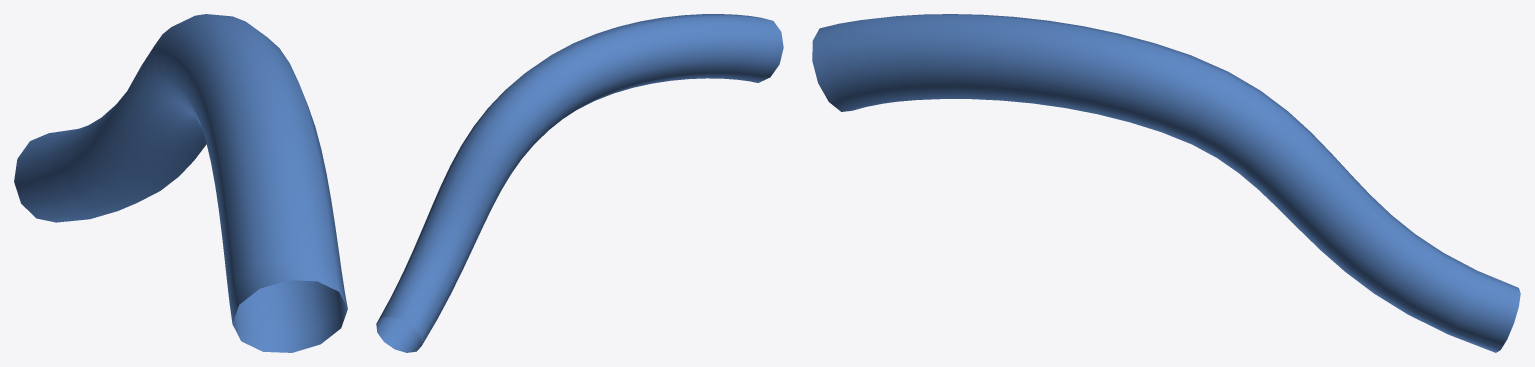
The picture shows the model from 3 angles, left to right: view 1: azimuth 30°, elevation 25°; view 2: azimuth 150°, elevation 25°; view 3: azimuth 270°, elevation 25°; orthographic projection. The views are drawn at different scales.
Parts seen in each view (by area): view 1: 左侧髂外静脉; view 2: 左侧髂外静脉; view 3: 左侧髂外静脉.
Part boxes in pixels (x1,y1,x2,y2): 左侧髂外静脉: (14, 14, 347, 352); 左侧髂外静脉: (376, 14, 783, 352); 左侧髂外静脉: (812, 14, 1520, 352).
Size of the model in its own units: 0.0551 by 0.0683 by 0.1512.
